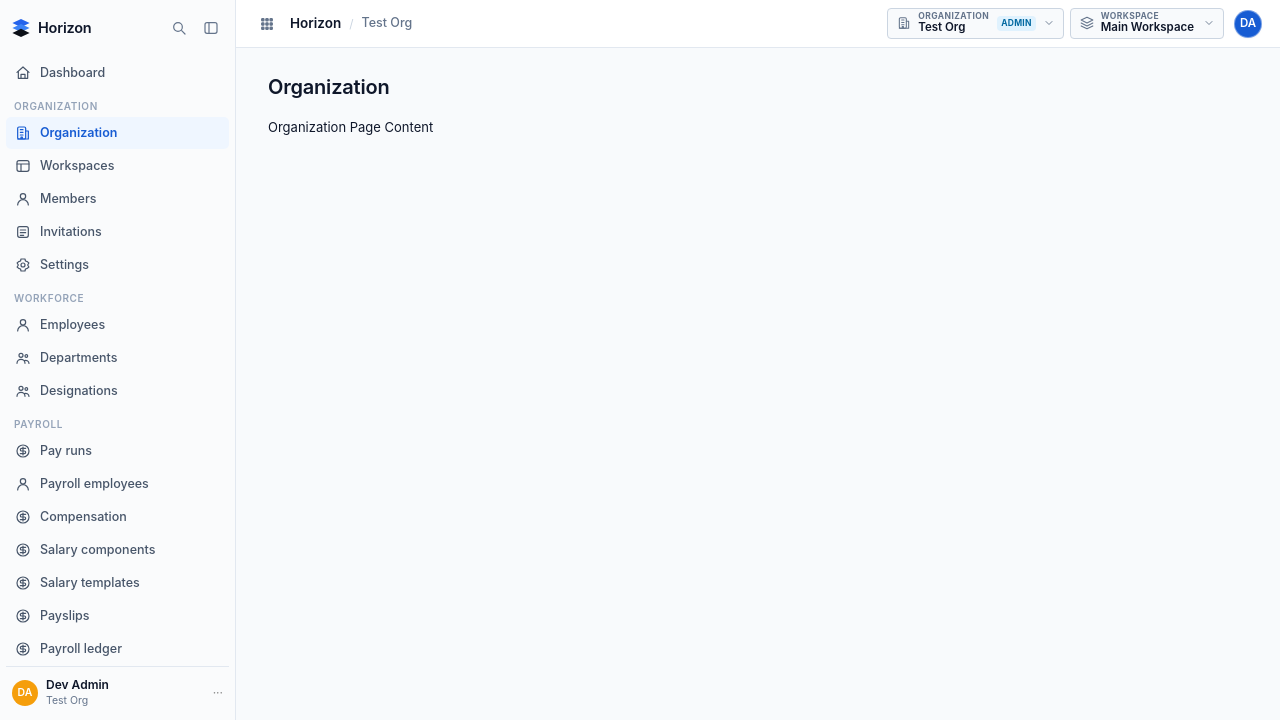
Test case: Organization Administration Sidebar Navigation › navigates to each page on click and highlights the active route while keeping sidebar expanded
Expected: the text "Organization Page Content" is shown, [268, 119, 433, 135]
Click the link "Workspaces" at (65, 166), box [15, 158, 114, 174]
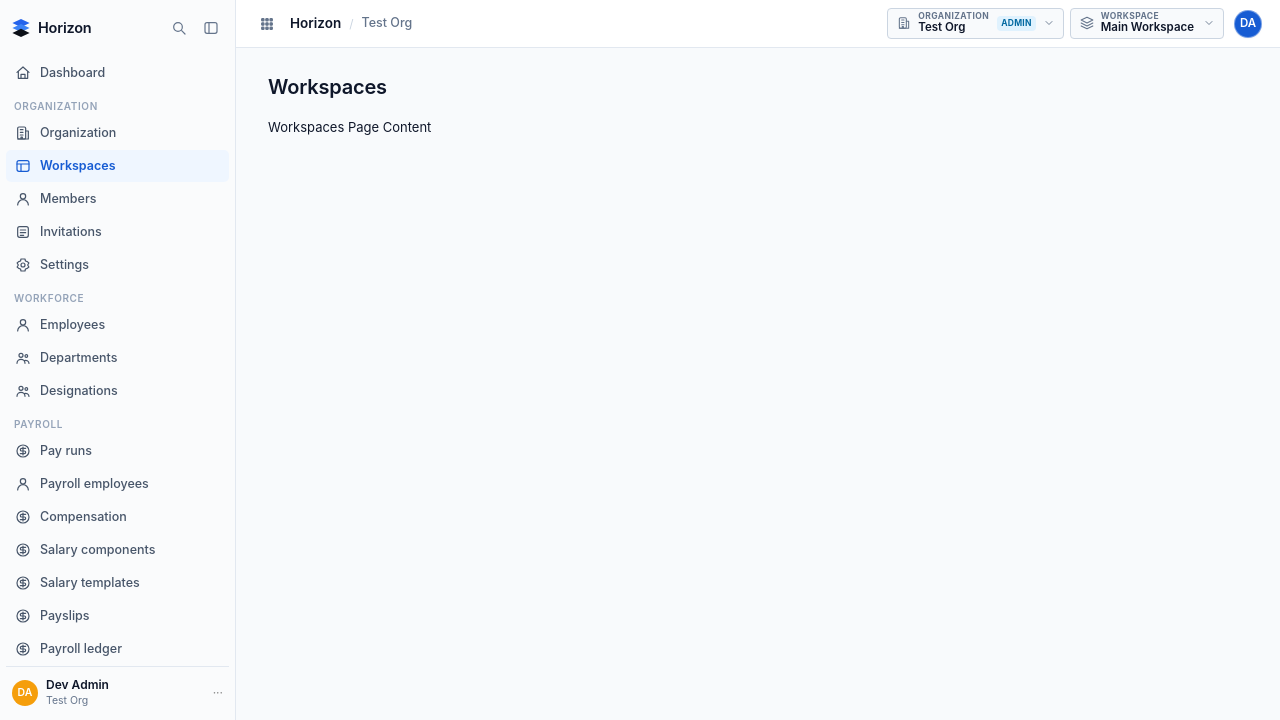
Expected: the element named "Application navigation" is shown, [0, 0, 236, 719]
Now the text "Workspaces Page Content" is shown, box [268, 119, 431, 135]
Click the link "Members" at (56, 199), box [15, 191, 96, 207]
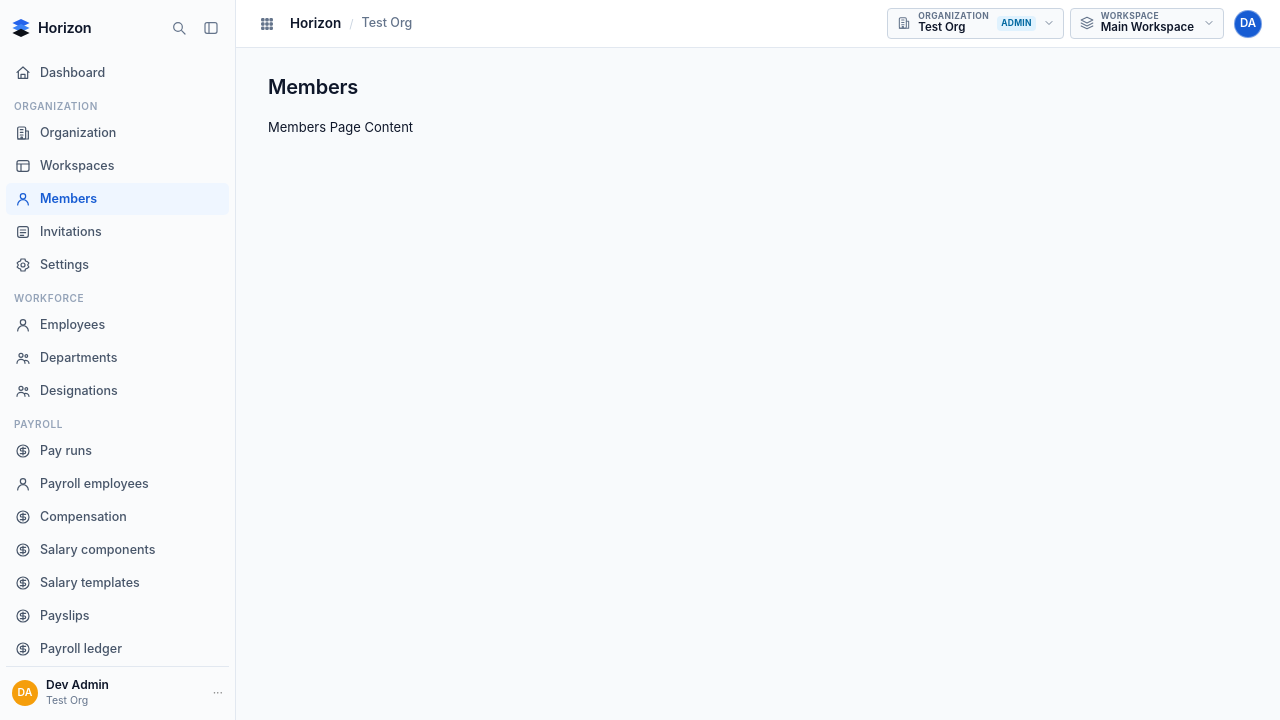
Expected: the element named "Application navigation" is shown, [0, 0, 236, 719]
Now the text "Members Page Content" is shown, box [268, 119, 413, 135]
Click the link "Invitations" at (58, 232), box [15, 224, 102, 240]
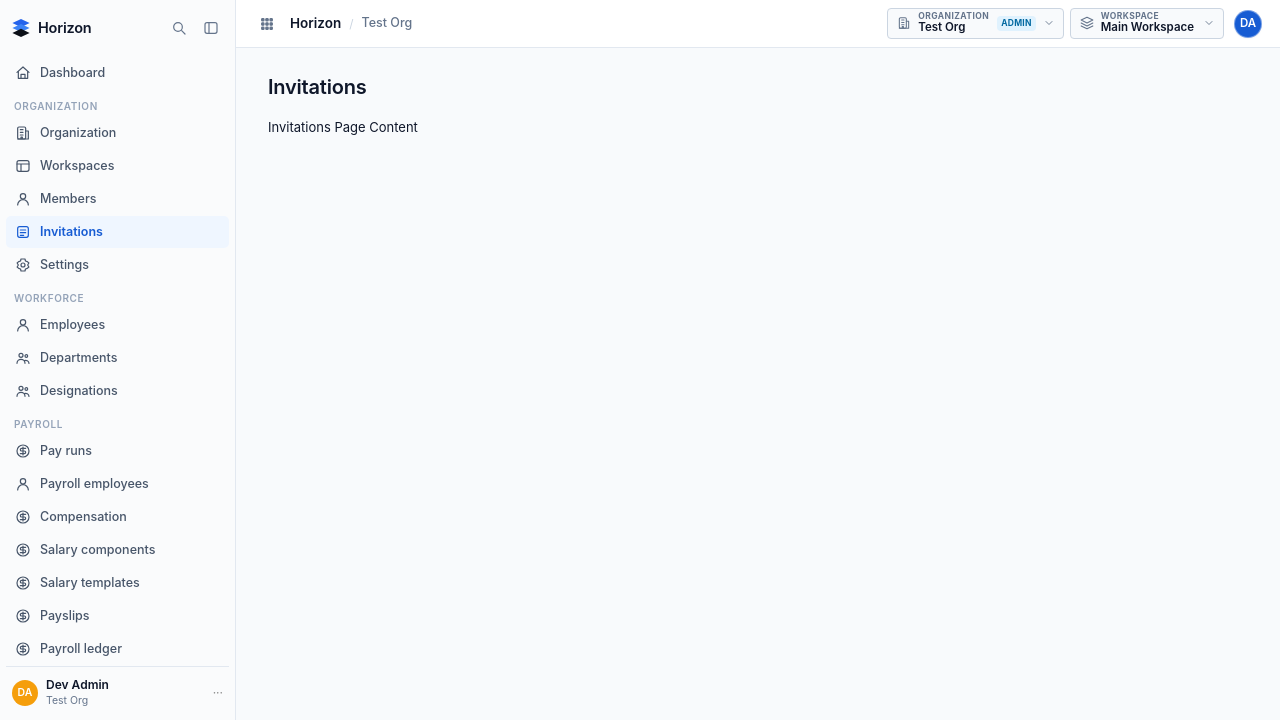
Expected: the element named "Application navigation" is shown, [0, 0, 236, 719]
Now the text "Invitations Page Content" is shown, box [268, 119, 418, 135]
Click the link "Settings" at (52, 265), box [15, 257, 89, 273]
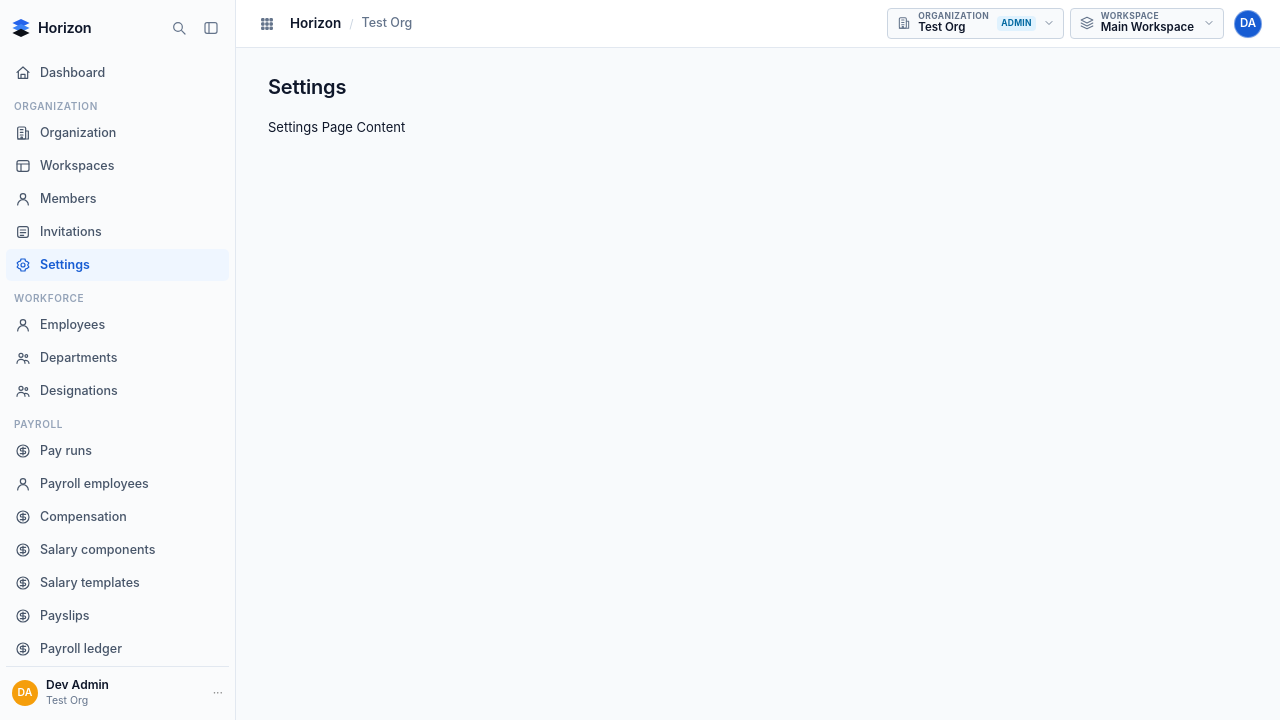
Expected: the element named "Application navigation" is shown, [0, 0, 236, 719]
Now the text "Settings Page Content" is shown, box [268, 119, 405, 135]
Click the link "Organization" at (66, 133), box [15, 125, 116, 141]
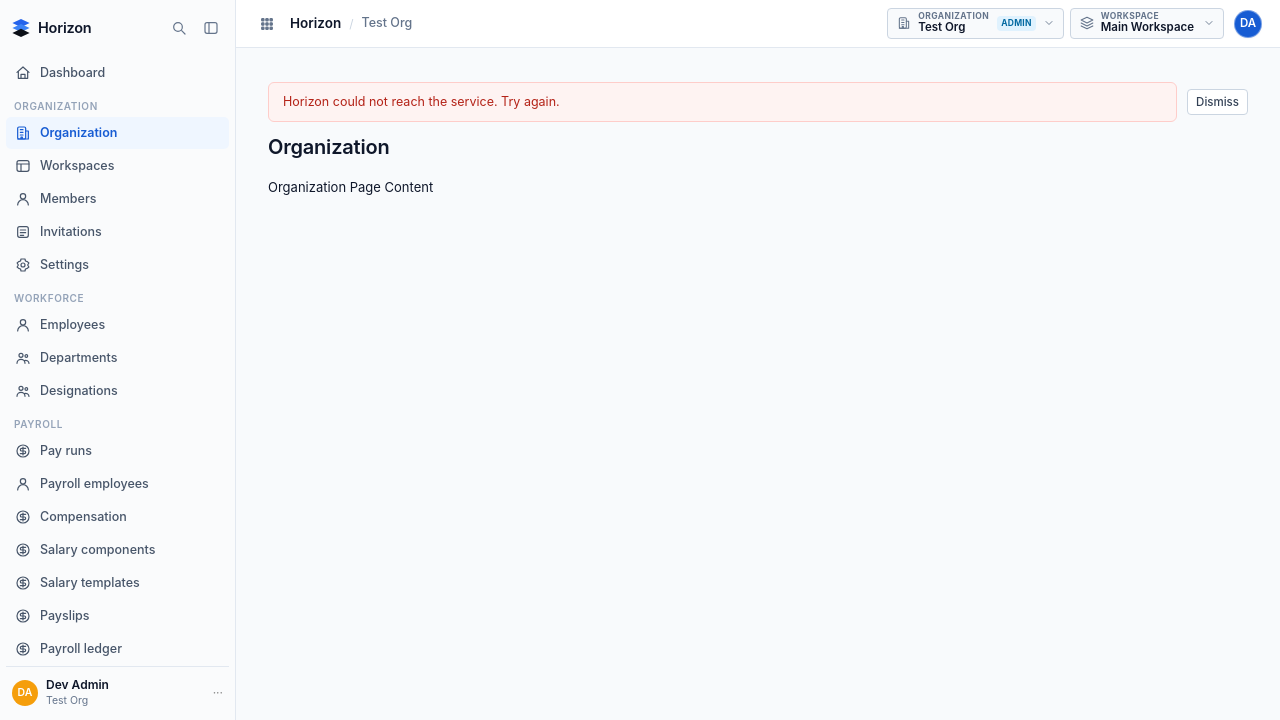
Expected: the element named "Application navigation" is shown, [0, 0, 236, 719]
Now the text "Organization Page Content" is shown, box [268, 178, 433, 194]
